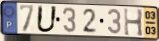2: (82, 8, 98, 34)
3: (106, 8, 123, 36), (62, 6, 78, 34)
7: (19, 4, 36, 34)
H: (123, 7, 145, 38)
U: (35, 5, 59, 34)
